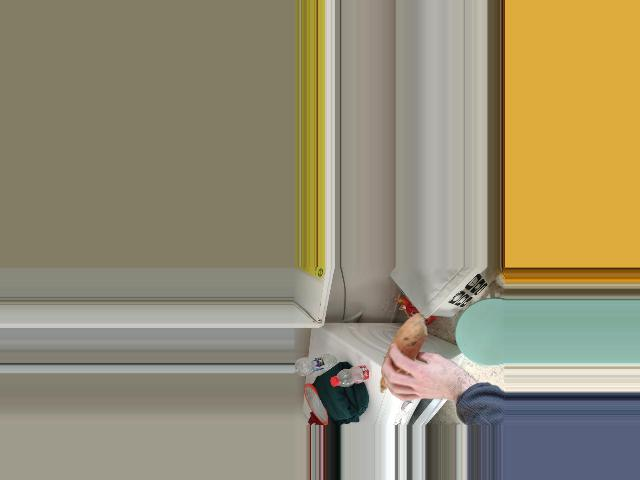sweet_potato: (379, 316, 426, 396)
